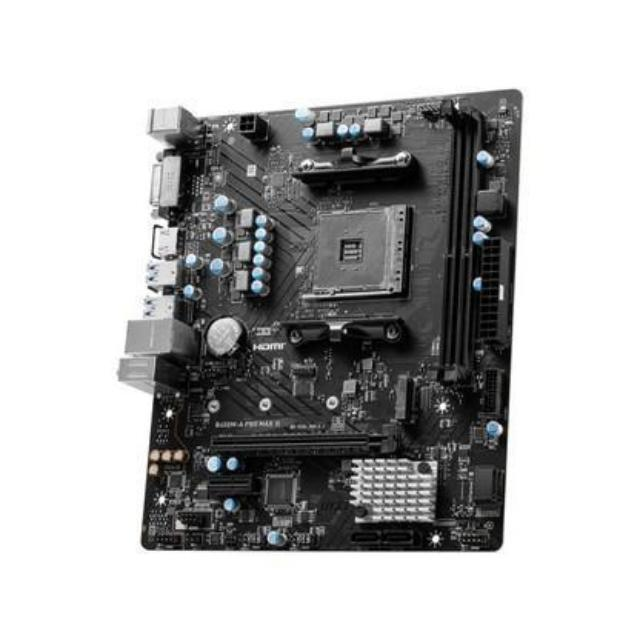Mainboard: (124, 80, 530, 566)
